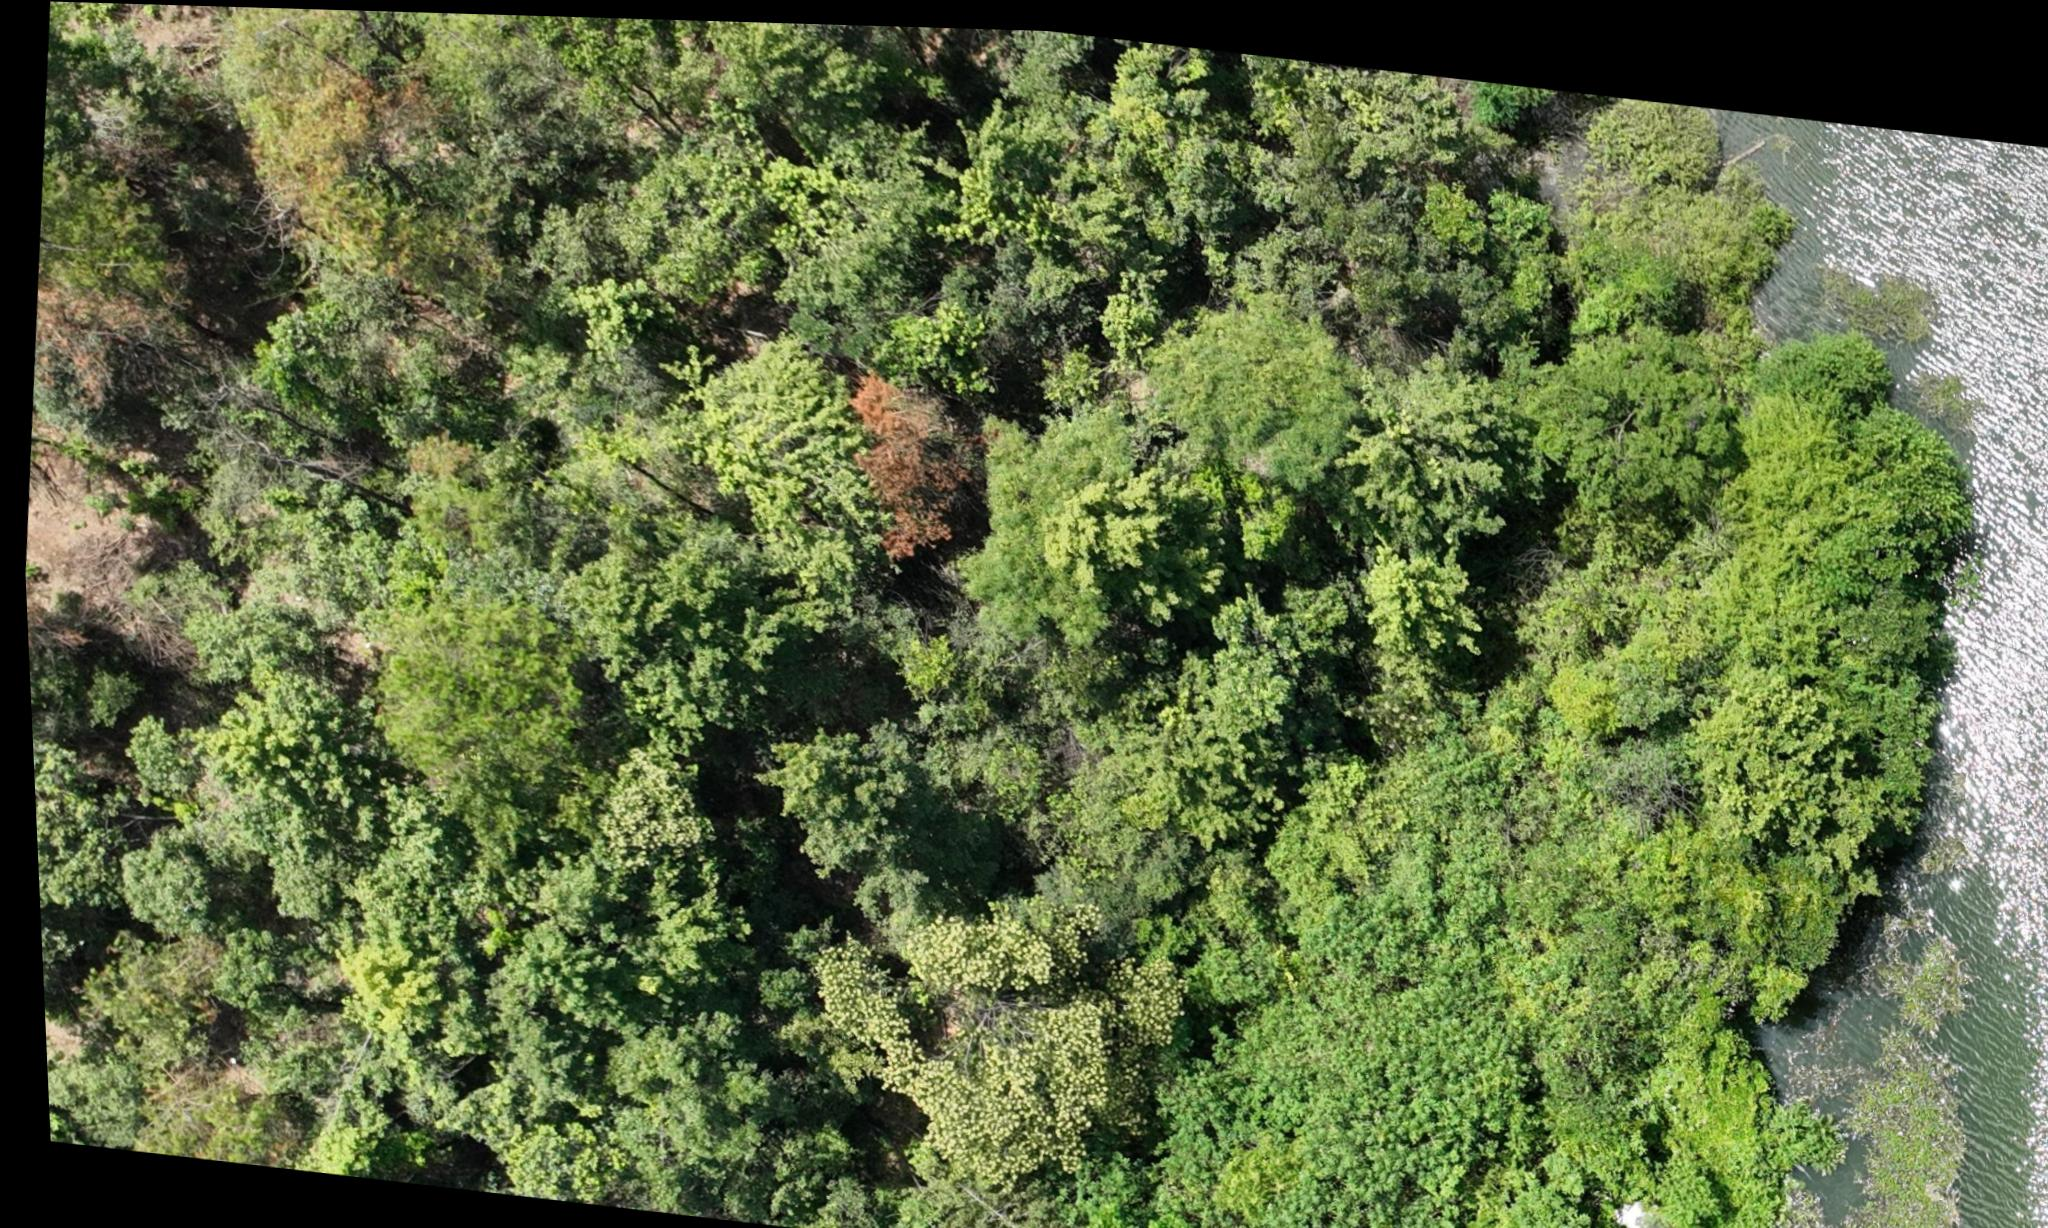heavy: (841, 367, 969, 566)
